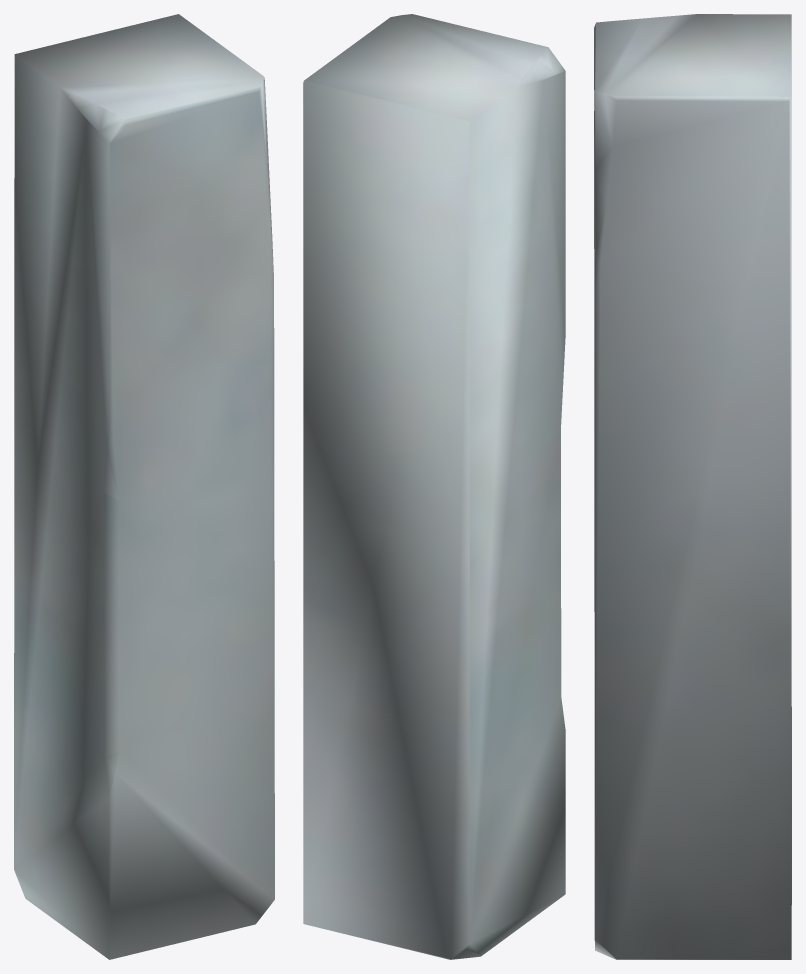
The model's file is P_CubicCliffPiece04.obj.
3 renders of one model, left to right at view 1: azimuth 30°, elevation 25°; view 2: azimuth 150°, elevation 25°; view 3: azimuth 270°, elevation 25°, orthographic. The views are drawn at different scales.
Size of the model in its own units: 3.79 by 18.19 by 3.78.
